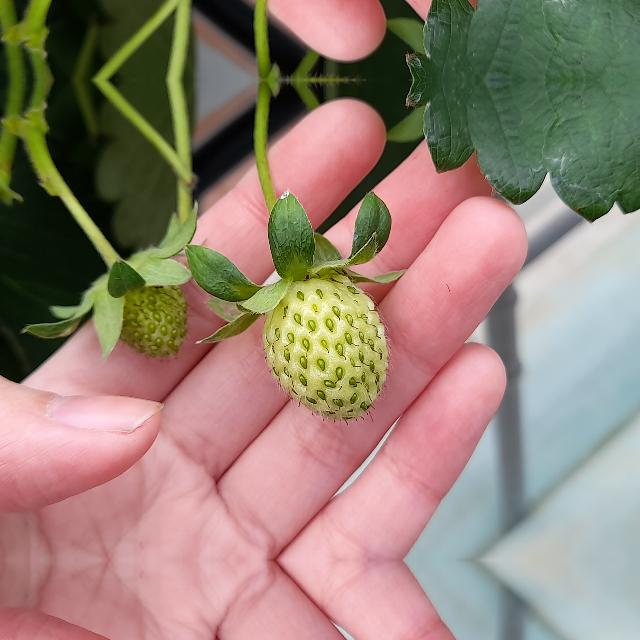Health_25: (261, 274, 387, 420), (103, 272, 191, 358)
